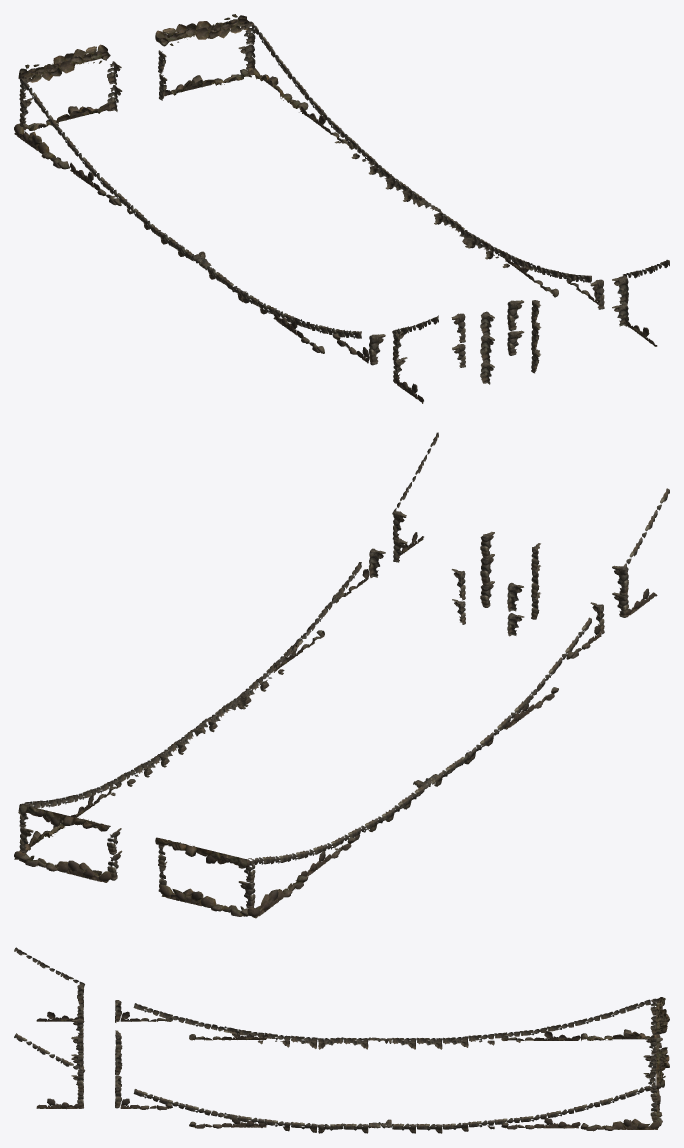
File: Rock_under_ramps.fbx
3 renders of one model, top to bottom at view 1: azimuth 30°, elevation 25°; view 2: azimuth 150°, elevation 25°; view 3: azimuth 270°, elevation 25°, orthographic. The views are drawn at different scales.
Visible parts, largest first — view 1: Aset_historical_feudal_japan_L_vgdjdgmqx_LOD0.012; view 2: Aset_historical_feudal_japan_L_vgdjdgmqx_LOD0.012; view 3: Aset_historical_feudal_japan_L_vgdjdgmqx_LOD0.012.
Boxes of the visible parts, x1,y1,x2,y2 form: Aset_historical_feudal_japan_L_vgdjdgmqx_LOD0.012: (14,14,669,403); Aset_historical_feudal_japan_L_vgdjdgmqx_LOD0.012: (14,432,669,918); Aset_historical_feudal_japan_L_vgdjdgmqx_LOD0.012: (14,947,669,1133).
Size of the model in its own units: 1382 by 698 by 4105.
